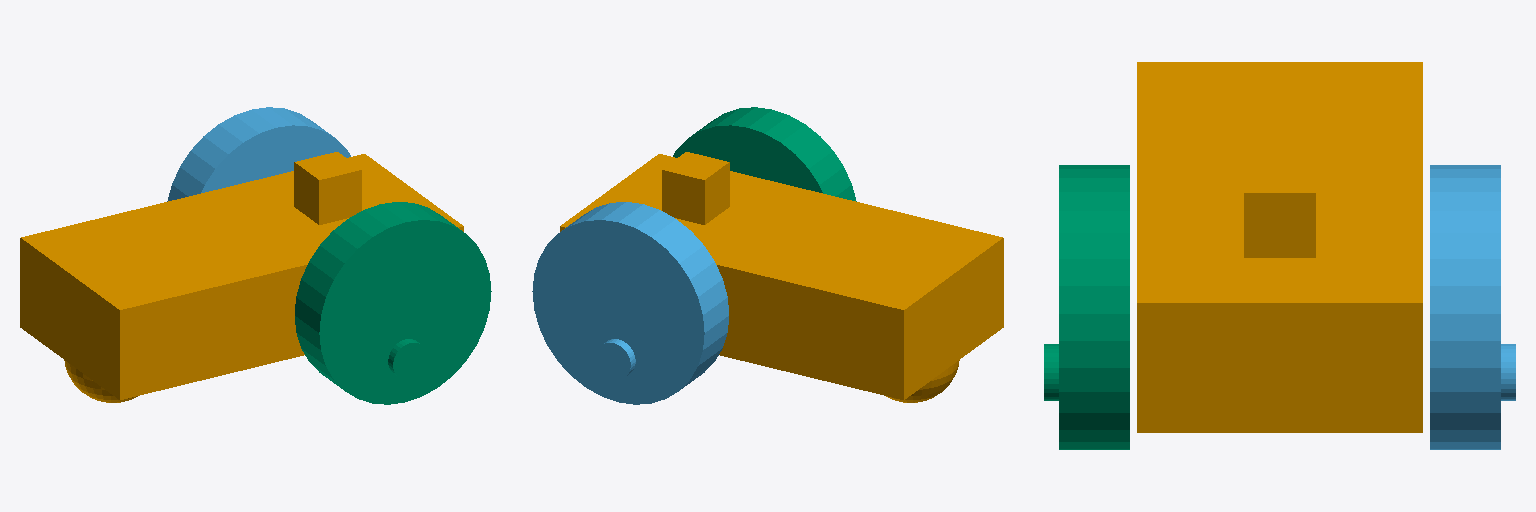
The robot description file, URDF, robot "crawler":
<?xml version="1.0" ?>
<robot name="crawler">
    <plugin name="gazebo_ros_control" filename="libgazebo_ros_control.so"/>
    <plugin name="differential_drive_controller" filename="libgazebo_ros_diff_drive.so">
        <alwaysOn>true</alwaysOn>
        <updateRate>20</updateRate>
        <leftJoint>crawler__left_wheel_hinge</leftJoint>
        <rightJoint>crawler__right_wheel_hinge</rightJoint>
        <wheelSeparation>0.26</wheelSeparation>
        <wheelDiameter>0.1</wheelDiameter>
        <wheelTorque>20</wheelTorque>
        <wheelAcceleration>5</wheelAcceleration>
        <commandTopic>cmd_vel</commandTopic>
        <!--<odometrySource>1</odometrySource>-->
        <odometryTopic>odom</odometryTopic>
        <odometryFrame>odom</odometryFrame>
        <publishOdomTf>true</publishOdomTf>
        <publishWheelTf>false</publishWheelTf>
        <publishWheelJointState>true</publishWheelJointState>
        <robotBaseFrame>base_footprint</robotBaseFrame>
    </plugin>

    <joint name="crawler__left_wheel_hinge" type="fixed">
        <parent link="crawler__chassis"/>
        <child link="crawler__left_wheel"/>
        <origin rpy="0      1.5707  1.5707" xyz="0.09999  0.1      0.09999"/>
        <axis xyz="9.00000000e-05   9.00000000e-05   1.00000000e+00"/>
        <limit effort="0" lower="0" upper="0" velocity="0"/>
    </joint>
    <joint name="crawler__right_wheel_hinge" type="fixed">
        <parent link="crawler__chassis"/>
        <child link="crawler__right_wheel"/>
        <origin rpy="0      1.5707  1.5707" xyz="0.1 -0.1  0.1"/>
        <axis xyz="9.00000000e-05   9.00000000e-05   1.00000000e+00"/>
        <limit effort="0" lower="0" upper="0" velocity="0"/>
    </joint>
    <link name="crawler__chassis">
        <inertial>
            <mass value="2.5"/>
            <origin rpy="0  0  0" xyz="0  0  0"/>
            <inertia ixx="10.0" ixy="0" ixz="0" iyy="10.0" iyz="0" izz="2.5"/>
        </inertial>
        <collision name="crawler__collision">
            <origin rpy="0  0  0" xyz="0   0   0.1"/>
            <geometry>
                <box size=".4 .2 .1"/>
            </geometry>
        </collision>
        <collision name="crawler__caster_collision">
            <origin rpy="0  0  0" xyz="-0.15  0    0.05"/>
            <geometry>
                <sphere radius=".05"/>
            </geometry>
        </collision>
        <visual name="crawler__visual">
            <origin rpy="0  0  0" xyz="0   0   0.1"/>
            <geometry>
                <box size=".4 .2 .1"/>
            </geometry>
        </visual>
        <visual name="crawler__visual_head">
            <origin rpy="0  0  0" xyz="0.1    0     0.175"/>
            <geometry>
                <box size=".05 .05 .05"/>
            </geometry>
        </visual>
        <visual name="crawler__caster_visual">
            <origin rpy="0  0  0" xyz="-0.15  0    0.05"/>
            <geometry>
                <sphere radius=".05"/>
            </geometry>
        </visual>
    </link>
    <link name="crawler__left_wheel">
        <inertial>
            <mass value="0.5"/>
            <origin rpy="0  0  0" xyz="0  0  0"/>
            <inertia ixx="0" ixy="0" ixz="0" iyy="0" iyz="0" izz="0"/>
        </inertial>
        <collision name="crawler__collision">
            <origin rpy="0  0  0" xyz="0    0    0.03"/>
            <geometry>
                <cylinder length=".05" radius=".1"/>
            </geometry>
        </collision>
        <visual name="crawler__visual">
            <origin rpy="0  0  0" xyz="0    0    0.03"/>
            <geometry>
                <cylinder length=".05" radius=".1"/>
            </geometry>
        </visual>
        <visual name="crawler__visualdot">
            <origin rpy="0  0  0" xyz="0.05  0    0.06"/>
            <geometry>
                <cylinder length=".01" radius=".02"/>
            </geometry>
        </visual>
    </link>
    <link name="crawler__right_wheel">
        <inertial>
            <mass value="0.5"/>
            <origin rpy="0  0  0" xyz="0  0  0"/>
            <inertia ixx="0" ixy="0" ixz="0" iyy="0" iyz="0" izz="0"/>
        </inertial>
        <collision name="crawler__collision">
            <origin rpy="0  0  0" xyz="0    0   -0.03"/>
            <geometry>
                <cylinder length=".05" radius=".1"/>
            </geometry>
        </collision>
        <visual name="crawler__visual">
            <origin rpy="0  0  0" xyz="0    0   -0.03"/>
            <geometry>
                <cylinder length=".05" radius=".1"/>
            </geometry>
        </visual>
        <visual name="crawler__visualdot">
            <origin rpy="0  0  0" xyz="0.05  0   -0.06"/>
            <geometry>
                <cylinder length=".01" radius=".02"/>
            </geometry>
        </visual>
    </link>
</robot>

--- What the picture shows (computed from the rendered views, not written in the file) ---
3 views of the same robot in one strip: view 1: azimuth 30°, elevation 25°; view 2: azimuth 150°, elevation 25°; view 3: azimuth 270°, elevation 25° (orthographic).
Model crawler with 3 links and 2 joints (2 fixed), rooted at crawler__chassis, posed all joints at 0.
Links seen in each view (by area): view 1: crawler__chassis, crawler__right_wheel, crawler__left_wheel; view 2: crawler__chassis, crawler__left_wheel, crawler__right_wheel; view 3: crawler__chassis, crawler__left_wheel, crawler__right_wheel.
Boxes of the visible links, <box> form: crawler__chassis: <box>20,152,463,402</box>; crawler__right_wheel: <box>295,202,491,404</box>; crawler__left_wheel: <box>167,107,350,201</box>; crawler__chassis: <box>560,152,1003,402</box>; crawler__left_wheel: <box>532,202,728,404</box>; crawler__right_wheel: <box>673,107,856,201</box>; crawler__chassis: <box>1137,62,1422,432</box>; crawler__left_wheel: <box>1430,165,1515,449</box>; crawler__right_wheel: <box>1044,165,1129,449</box>.
Bounding box of the posed robot: 0.4 × 0.33 × 0.2 m (x, y, z).
Geometry: primitives only (box / cylinder / sphere), no mesh files.